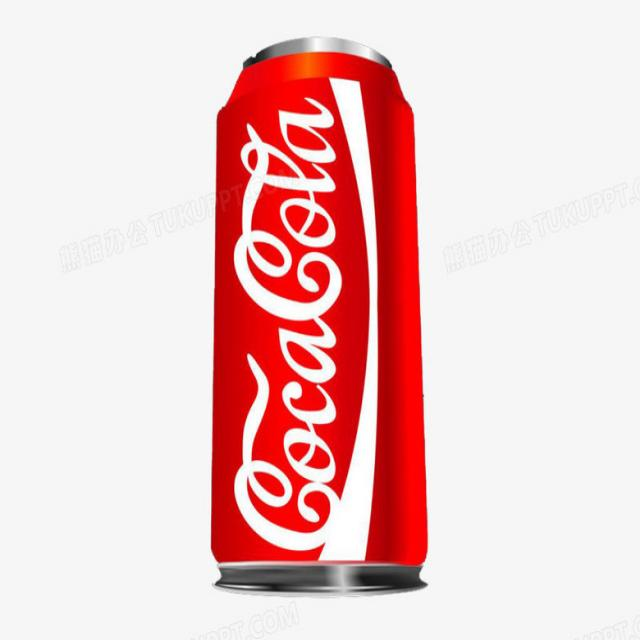can: (210, 32, 422, 608)
